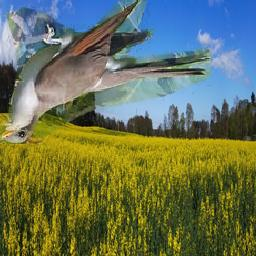Cuckoo: (1, 0, 212, 144)
